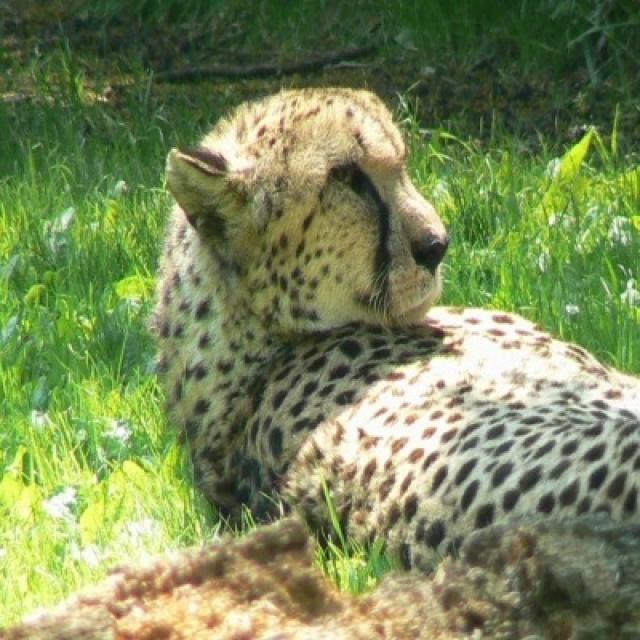Cheetah: (147, 86, 638, 550)
